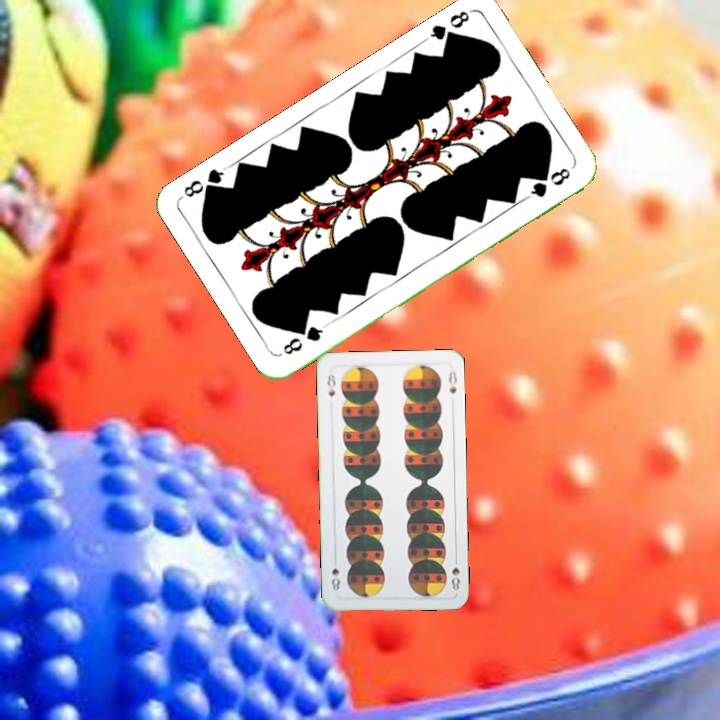G8: (421, 6, 474, 48), (278, 320, 330, 358)
S8: (448, 553, 463, 593), (323, 370, 338, 399)
